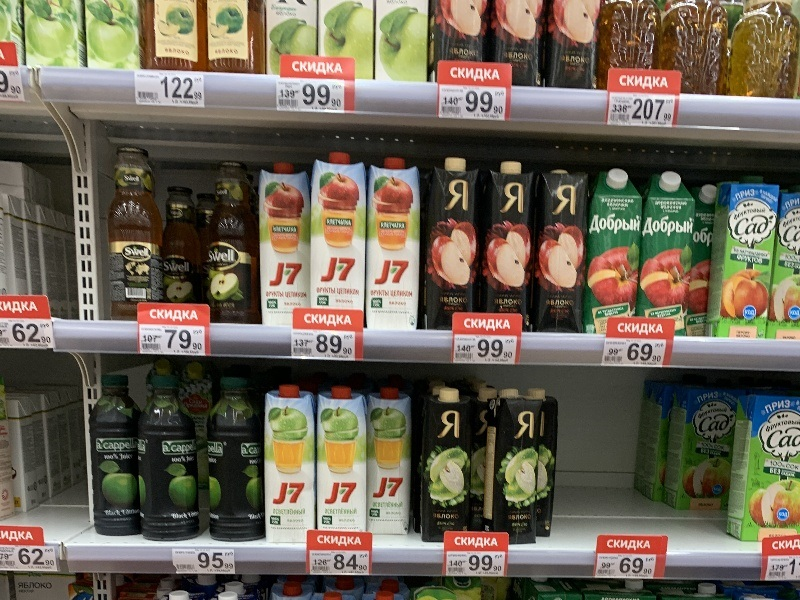juice: (363, 155, 430, 339), (531, 163, 597, 342), (423, 153, 488, 334), (308, 151, 378, 316), (251, 161, 319, 327), (711, 172, 776, 345), (258, 386, 327, 547), (581, 166, 647, 326), (478, 157, 541, 319), (485, 389, 545, 555), (311, 385, 374, 537), (360, 383, 418, 543), (640, 171, 698, 328), (419, 385, 468, 542)
